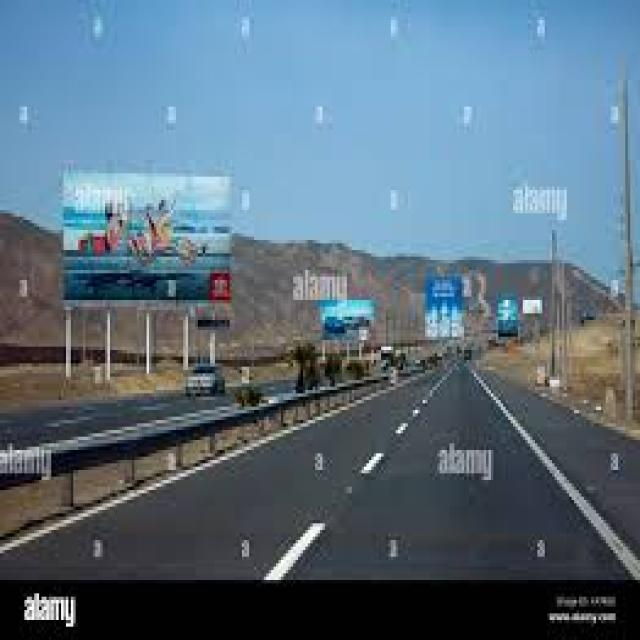Billboard_LHS: (56, 160, 244, 318), (419, 258, 471, 342), (311, 290, 381, 340)
Billboard_RHS: (495, 279, 528, 344)
Roadcorner: (4, 381, 373, 572), (471, 372, 638, 572)
Roadlane: (247, 386, 441, 581)
